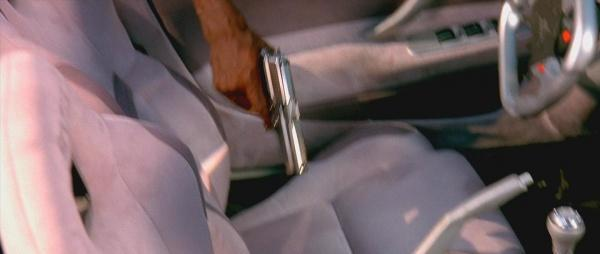Gun: (257, 46, 309, 179)
